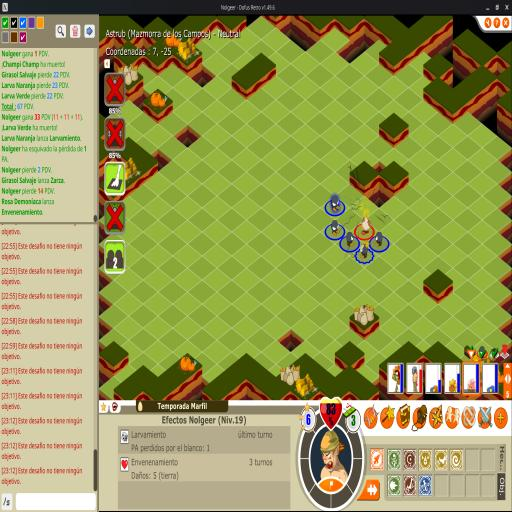Enemigos: (359, 238, 370, 260), (374, 231, 386, 248), (330, 195, 341, 213), (331, 219, 342, 237), (346, 231, 356, 248)
Personaje: (361, 216, 372, 236)
